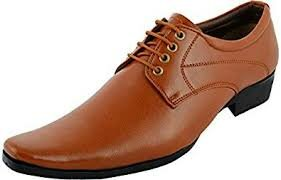Formal: (1, 1, 279, 180)
